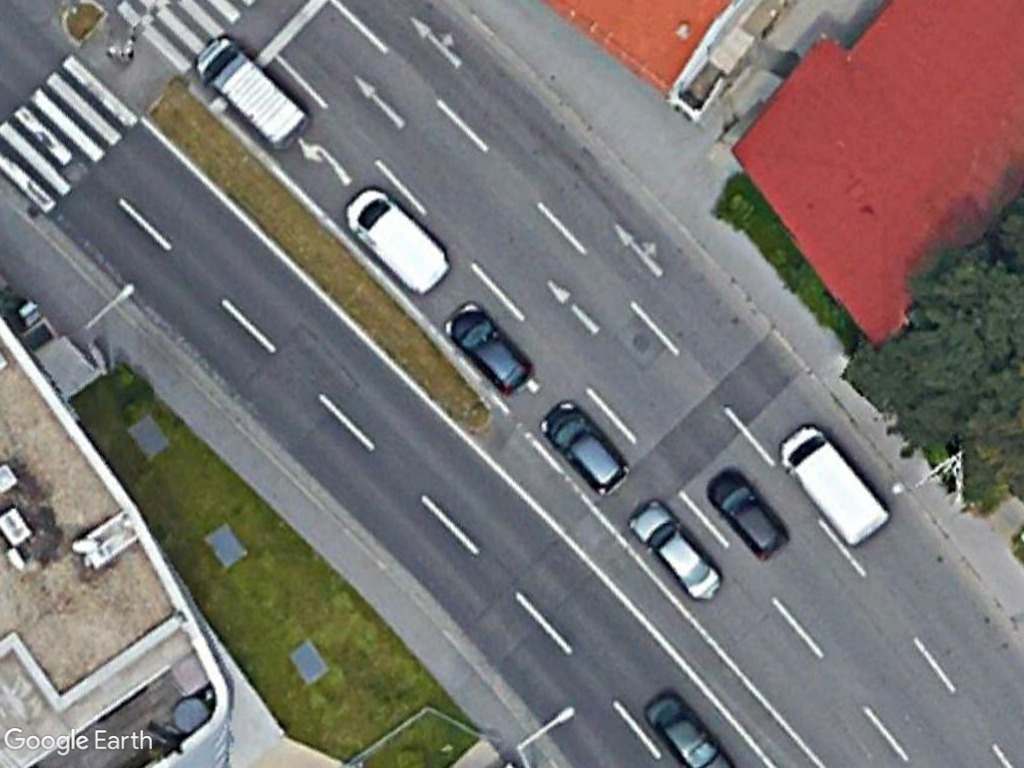car: (620, 496, 725, 608), (539, 394, 632, 500), (441, 299, 537, 395), (635, 684, 736, 768), (704, 468, 793, 563)
van: (775, 419, 895, 553), (194, 33, 314, 156), (337, 182, 452, 297)
